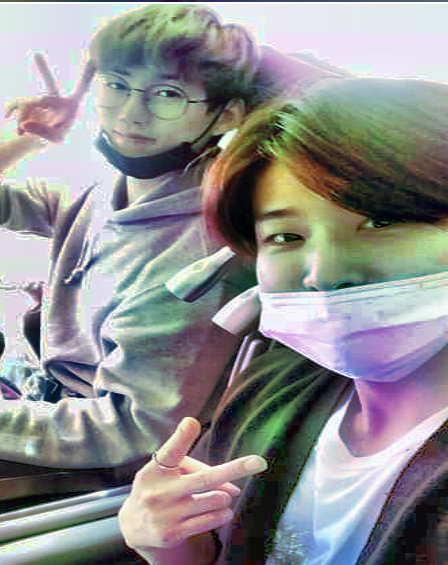mask_weared_incorrect: (228, 79, 447, 386), (82, 5, 255, 180)
